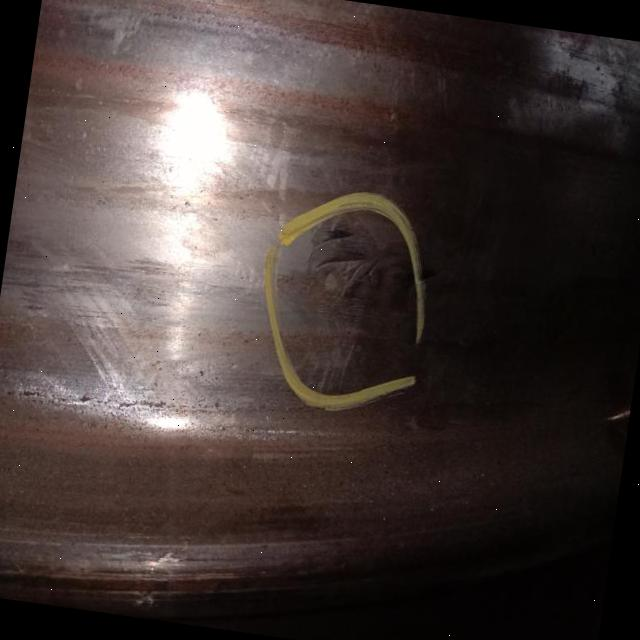Rollerpile: (300, 217, 420, 352)
